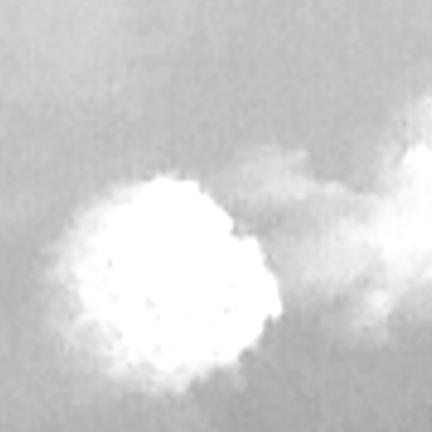flukeprints: (54, 176, 281, 390)
